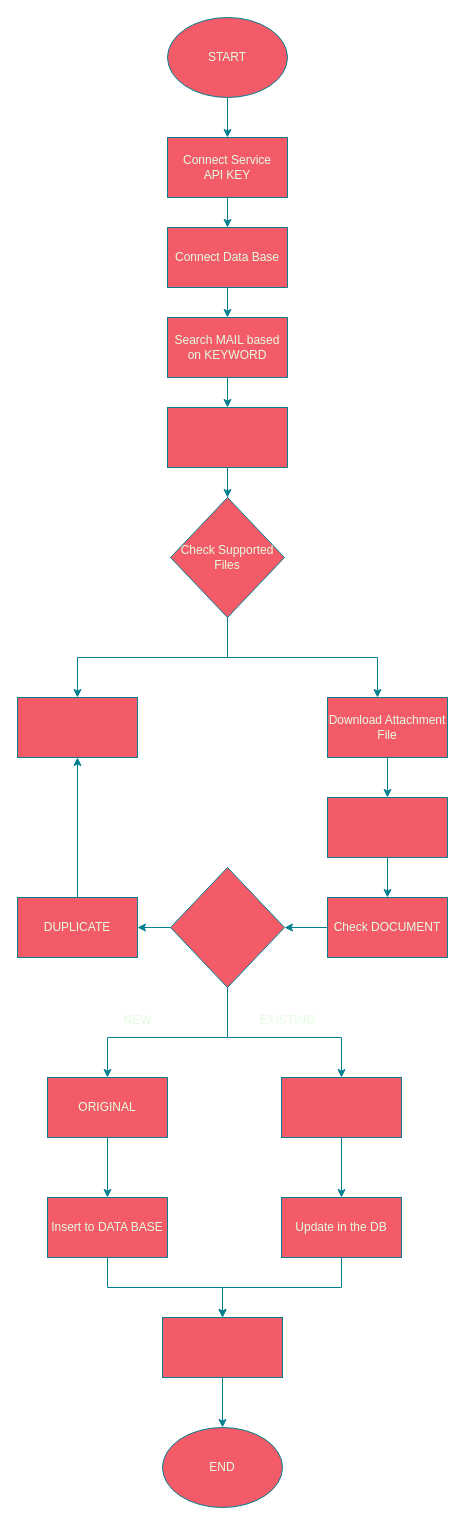
Some shapes in this 465 by 1525 pixel diagram are drawn without their labels. Each missing label, with the box of its shape:
For Each MAIL: (166, 406, 288, 468)
NEW / EXISTING: (170, 866, 284, 988)
Notify and log ERROR: (16, 696, 138, 758)
Save it to Excel and update the DATA BASE: (162, 1316, 282, 1378)
UPDATE: (280, 1076, 402, 1138)
Using API key extract the details and make it as Structured Data: (326, 796, 448, 858)
